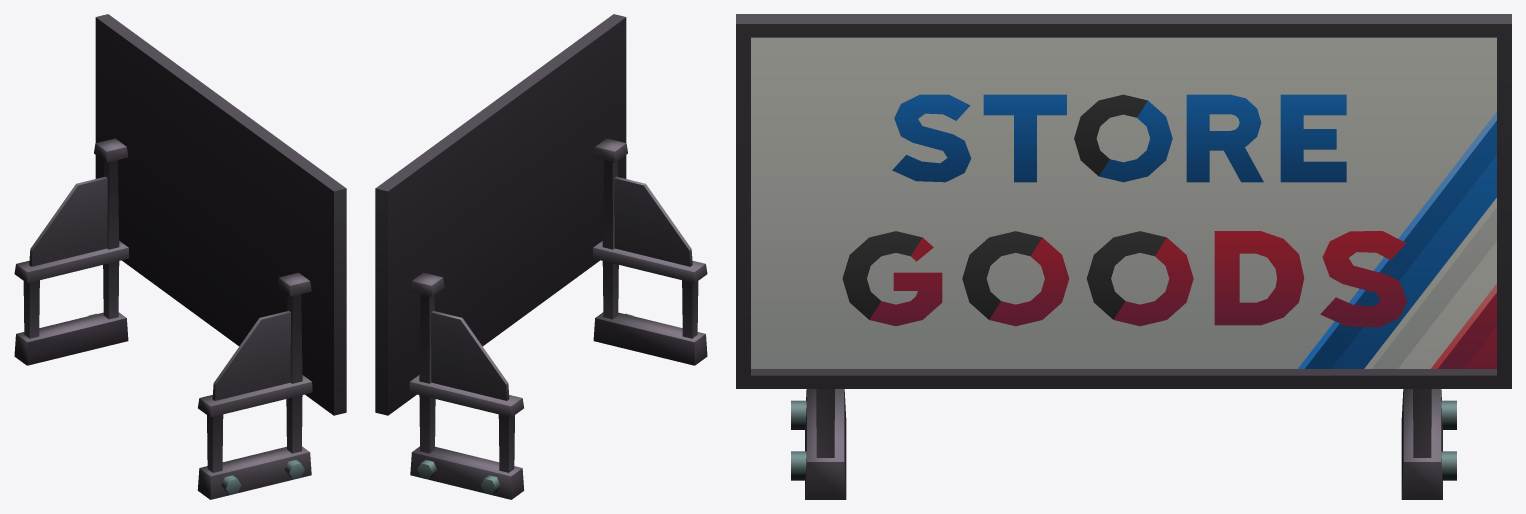
Rendered from Billboard_3B.fbx.
3 renders of one model, left to right at view 1: azimuth 30°, elevation 25°; view 2: azimuth 150°, elevation 25°; view 3: azimuth 270°, elevation 25°, orthographic. The views are drawn at different scales.
Parts seen in each view (by area): view 1: Billboard_3B; view 2: Billboard_3B; view 3: Billboard_3B.
Boxes of the visible parts, bbox=[...] form: Billboard_3B: bbox=[14, 14, 346, 499]; Billboard_3B: bbox=[375, 14, 707, 499]; Billboard_3B: bbox=[736, 14, 1511, 499].
Bounding box in the file's own units: 290 × 720 × 1040.
